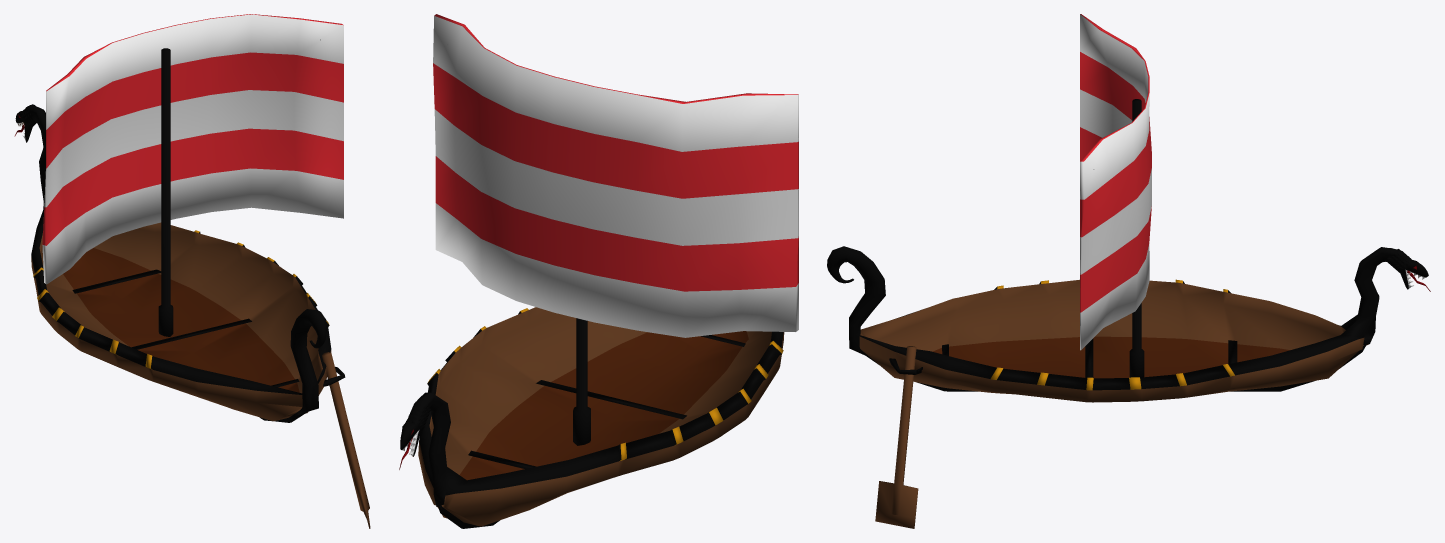
File: Ship.fbx
3 views of the same model, side by side, from view 1: azimuth 30°, elevation 25°; view 2: azimuth 150°, elevation 25°; view 3: azimuth 270°, elevation 25° (orthographic). The views are drawn at different scales.
Parts seen in each view (by area): view 1: ship; view 2: ship; view 3: ship.
Boxes of the visible parts, <box> form: ship: <box>14,14,370,528</box>; ship: <box>399,14,798,528</box>; ship: <box>827,14,1430,528</box>.
Size of the model in its own units: 1706 by 2265 by 3063.
